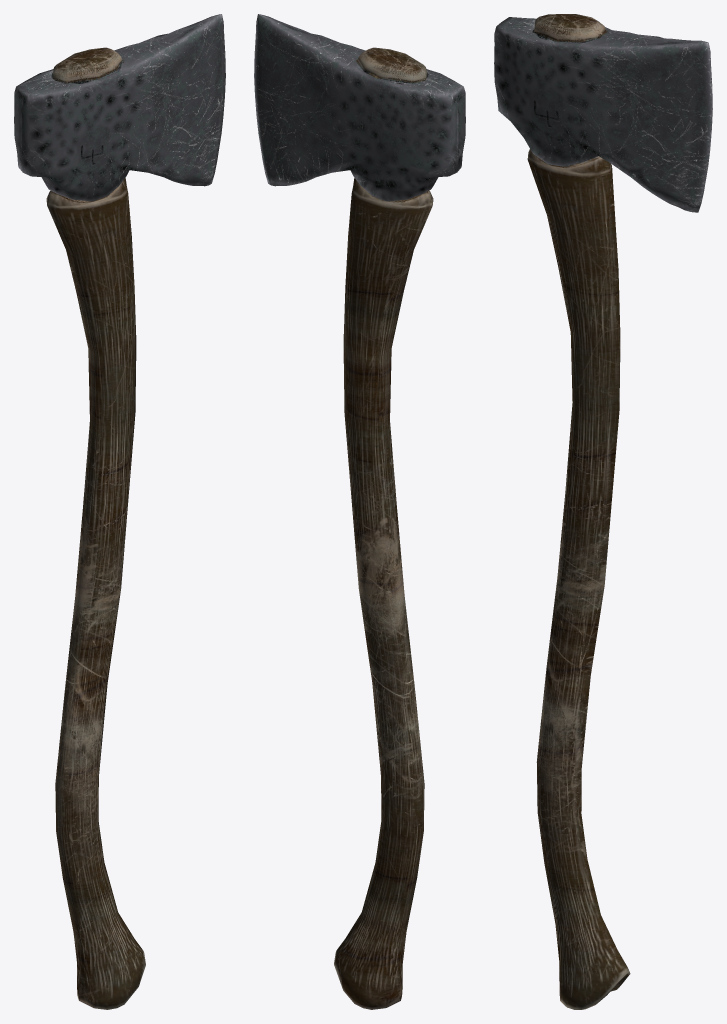
The model's file is axe.glb.
The picture shows the model from 3 angles, left to right: view 1: azimuth 30°, elevation 25°; view 2: azimuth 150°, elevation 25°; view 3: azimuth 330°, elevation 25°; orthographic projection. The views are drawn at different scales.
Parts seen in each view (by area): view 1: axe; view 2: axe; view 3: axe.
Part boxes in pixels (x1,y1,x2,y2): axe: [14, 14, 225, 1009]; axe: [254, 14, 465, 1009]; axe: [494, 14, 712, 1009].
Size of the model in its own units: 0.2236 by 1 by 0.0591.
Materials: 1 (1 with a texture image).
